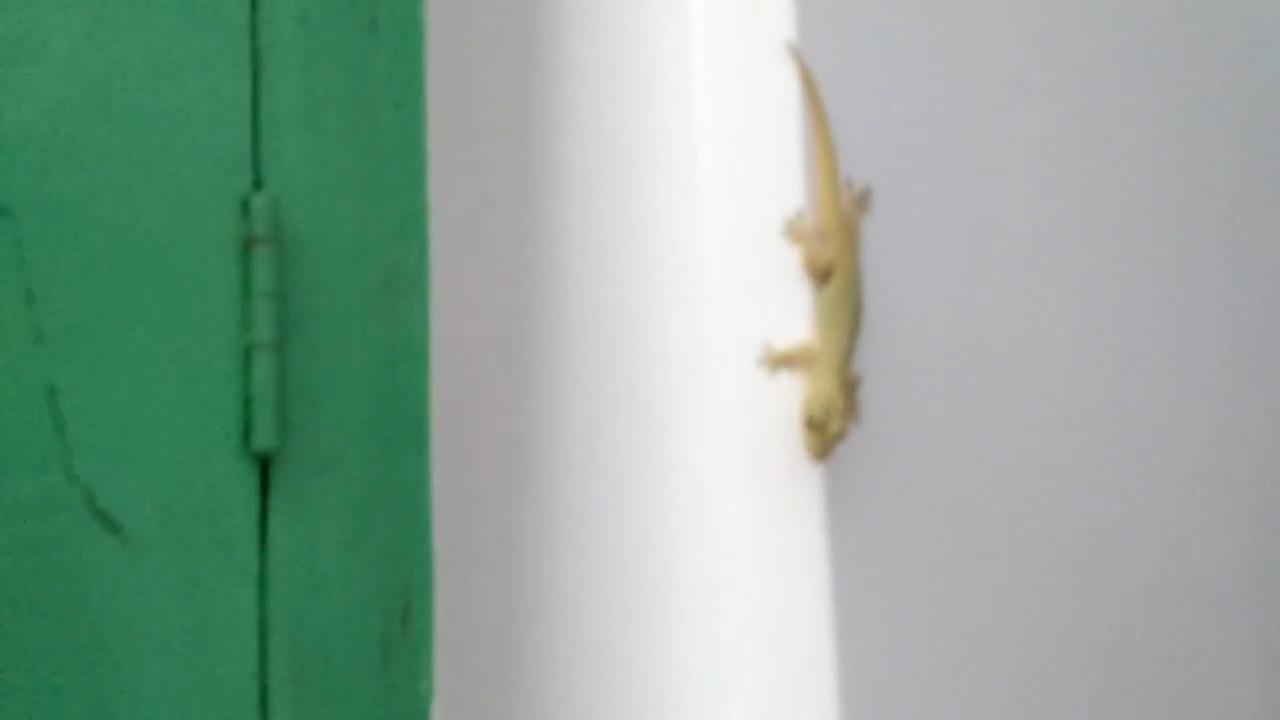lizard: (772, 37, 881, 495)
